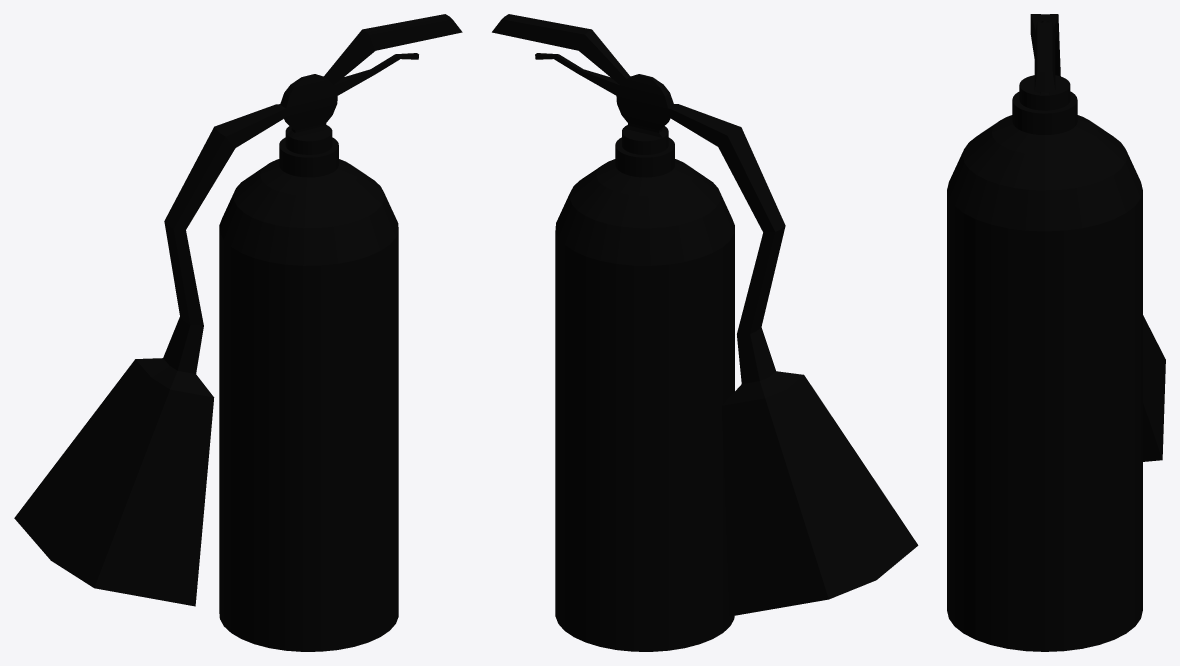
The model's file is Extintor.fbx.
The picture shows the model from 3 angles, left to right: view 1: azimuth 30°, elevation 25°; view 2: azimuth 150°, elevation 25°; view 3: azimuth 270°, elevation 25°; orthographic projection. The views are drawn at different scales.
Parts seen in each view (by area): view 1: Extintor; view 2: Extintor; view 3: Extintor.
Part boxes in pixels (<box>): Extintor: <box>14,14,462,651</box>; Extintor: <box>492,14,918,651</box>; Extintor: <box>947,14,1165,651</box>.
Size of the model in its own units: 301 by 416 by 133.
1 material, 1 textured.
